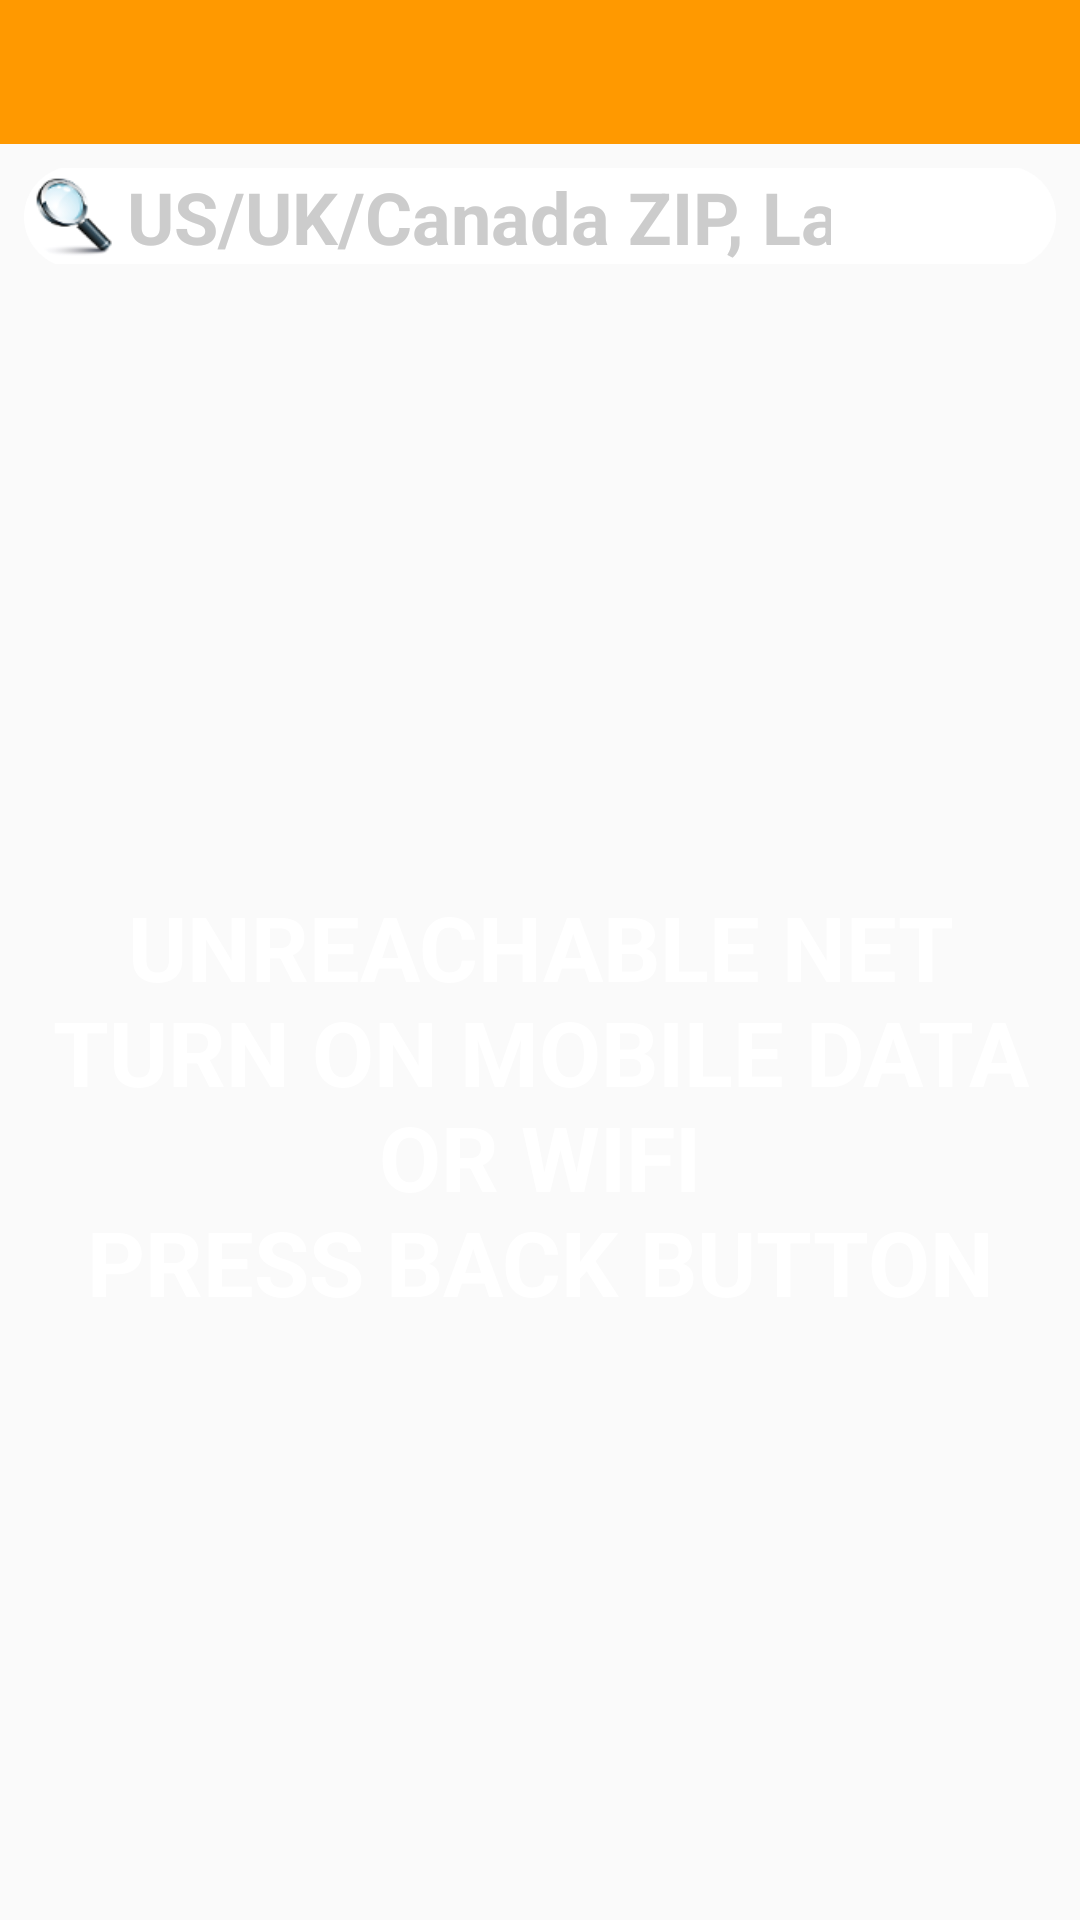

Named icons in this screenshot (1080×1920) and their bounding boxes, Rect(x1, y1, x2, y2):
magni: Rect(36, 178, 112, 254)
